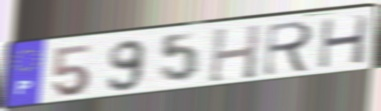5: (159, 30, 204, 88), (51, 42, 93, 99)
9: (105, 38, 149, 92)
H: (207, 22, 264, 85), (316, 13, 372, 71)
R: (260, 19, 316, 78)
